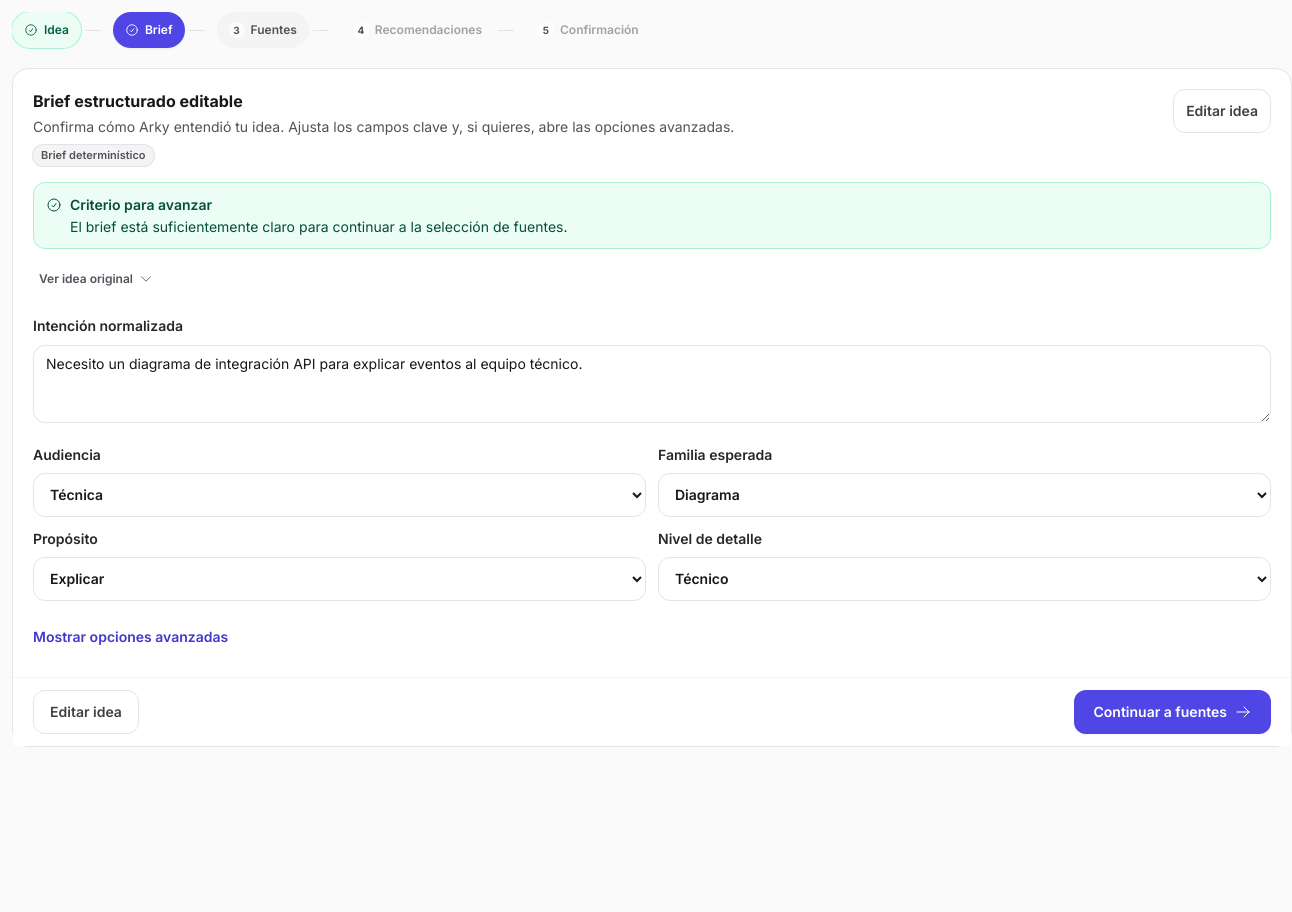
CustomArtifactBriefWizard › muestra el filtro de fuentes cuando hay 6 o más artefactos y filtra por nombre
Click the button "Continuar a fuentes" at [1172, 712], box [1074,690,1271,734]
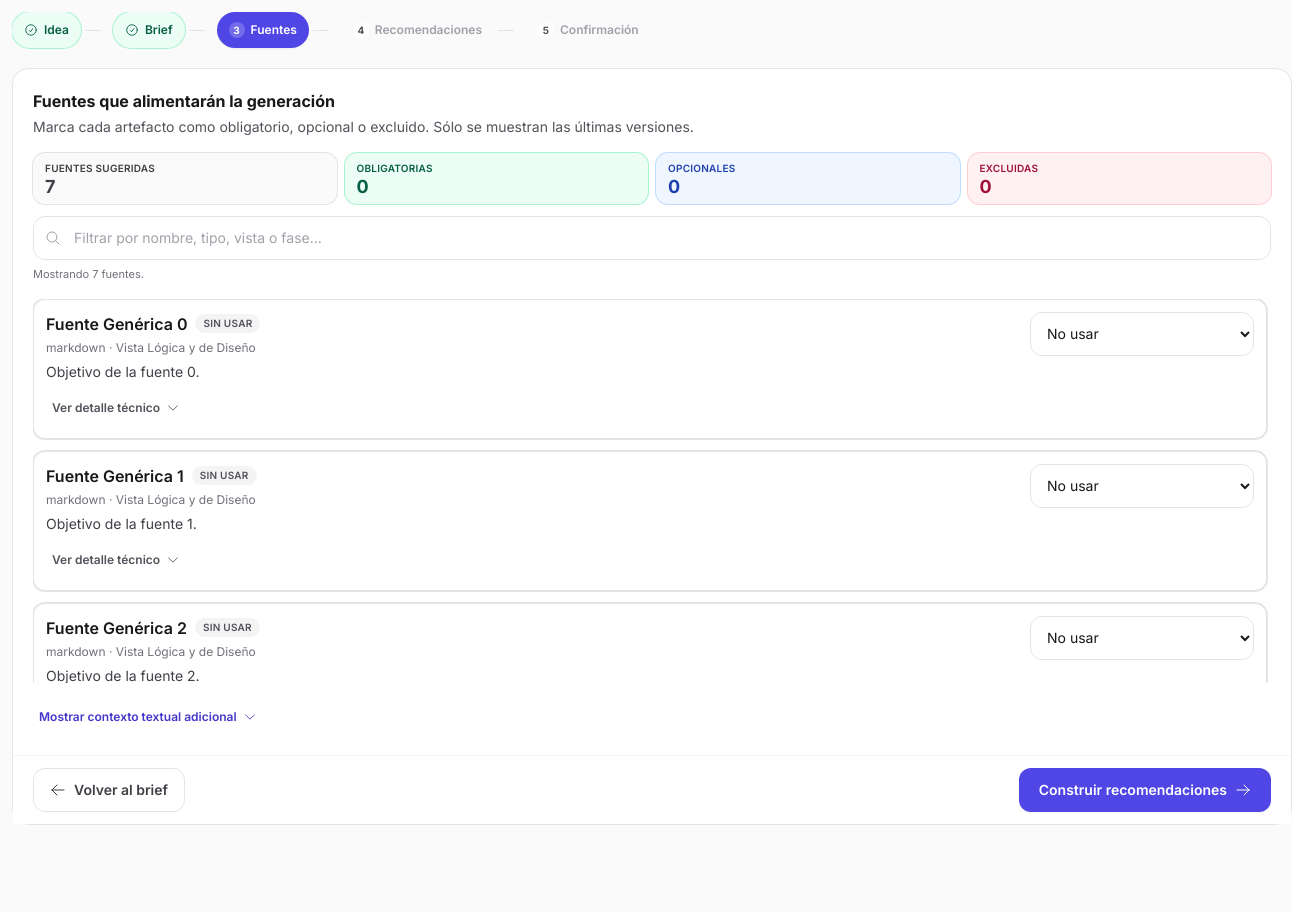
expect the search field with placeholder "Filtrar por nombre, tipo, vista o fase..." is shown: met
expect the text "Mostrando 7 fuentes." is shown: met, box [33,267,144,281]
Type "Contexto C4" into the search field with placeholder "Filtrar por nombre, tipo, vista o fase..." at [652, 238], box [33,216,1271,260]
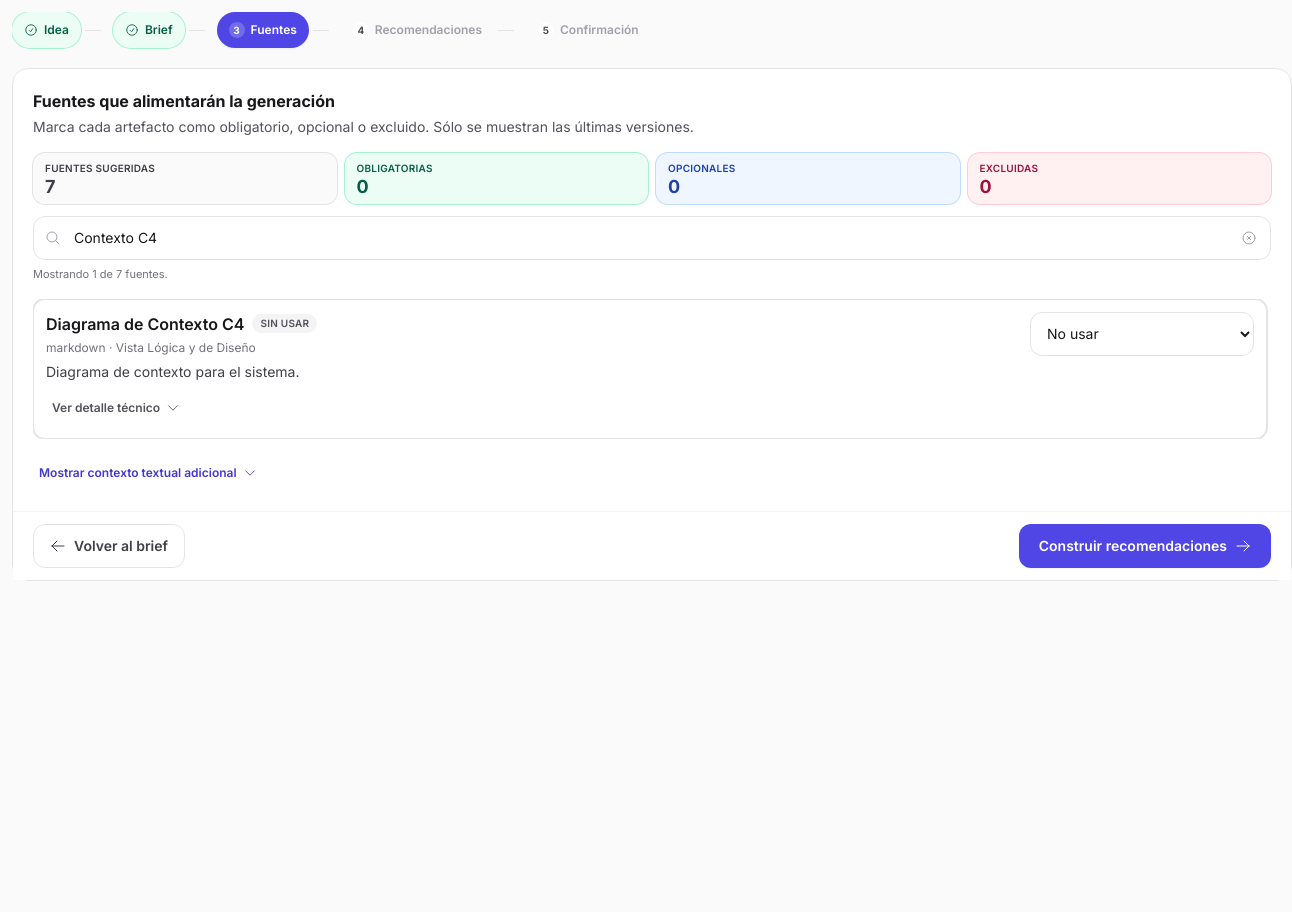
expect the text "Mostrando 1 de 7 fuentes." is shown: met, box [33,267,168,281]
expect the text "Diagrama de Contexto C4" is shown: met, box [46,312,244,336]
expect the text "Fuente Genérica 0" is gone: met
Clear button resets the filter.
Click the button named "Limpiar filtro de fuentes" at [1249, 238], box [1235,224,1263,252]
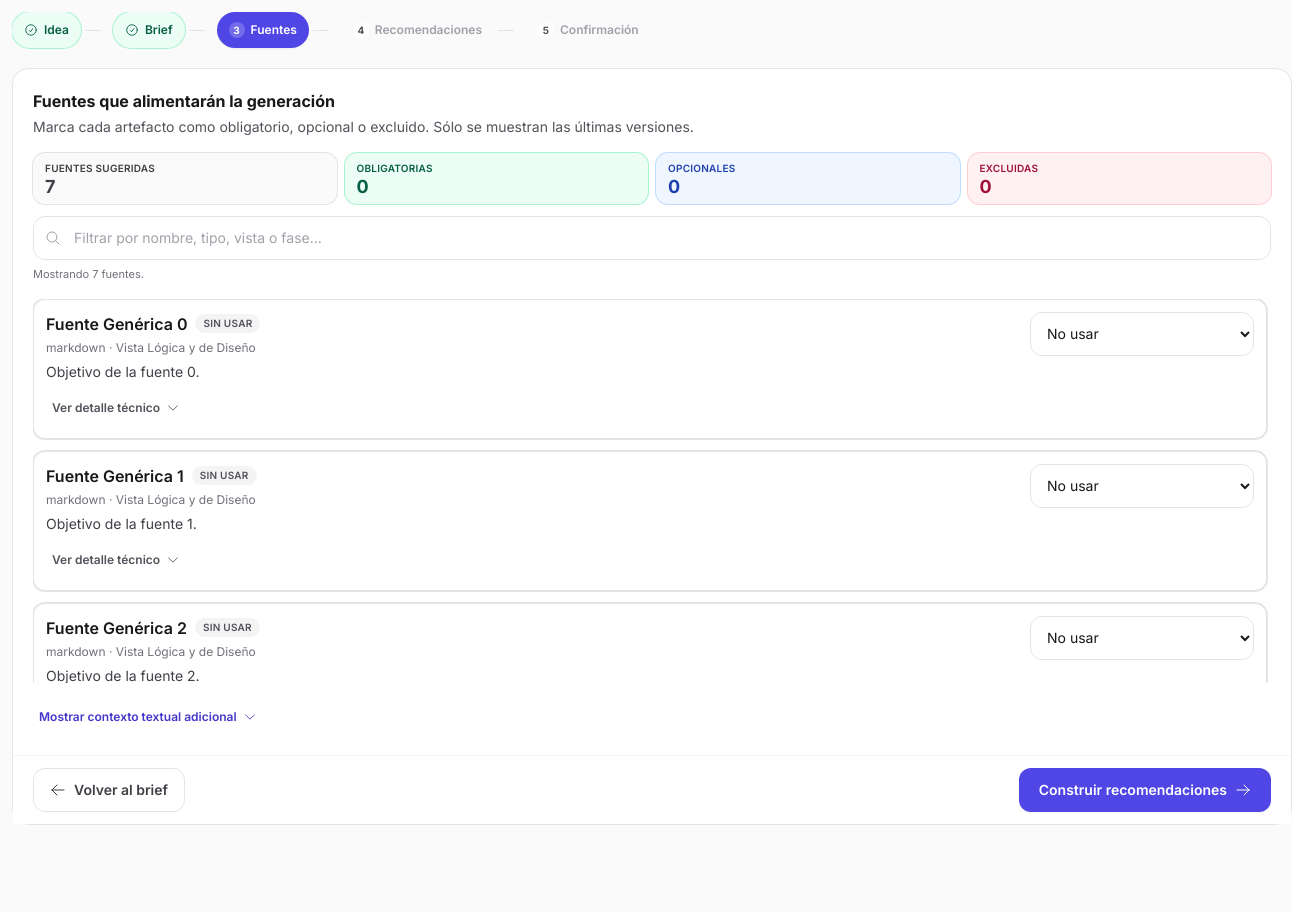
expect the text "Mostrando 7 fuentes." is shown: met, box [33,267,144,281]
